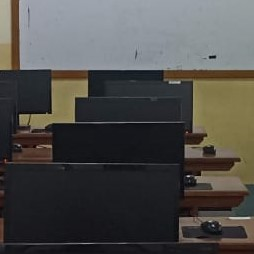monitor: (1, 162, 182, 244), (87, 70, 193, 133), (51, 121, 185, 164), (74, 96, 182, 126), (0, 69, 52, 116)
